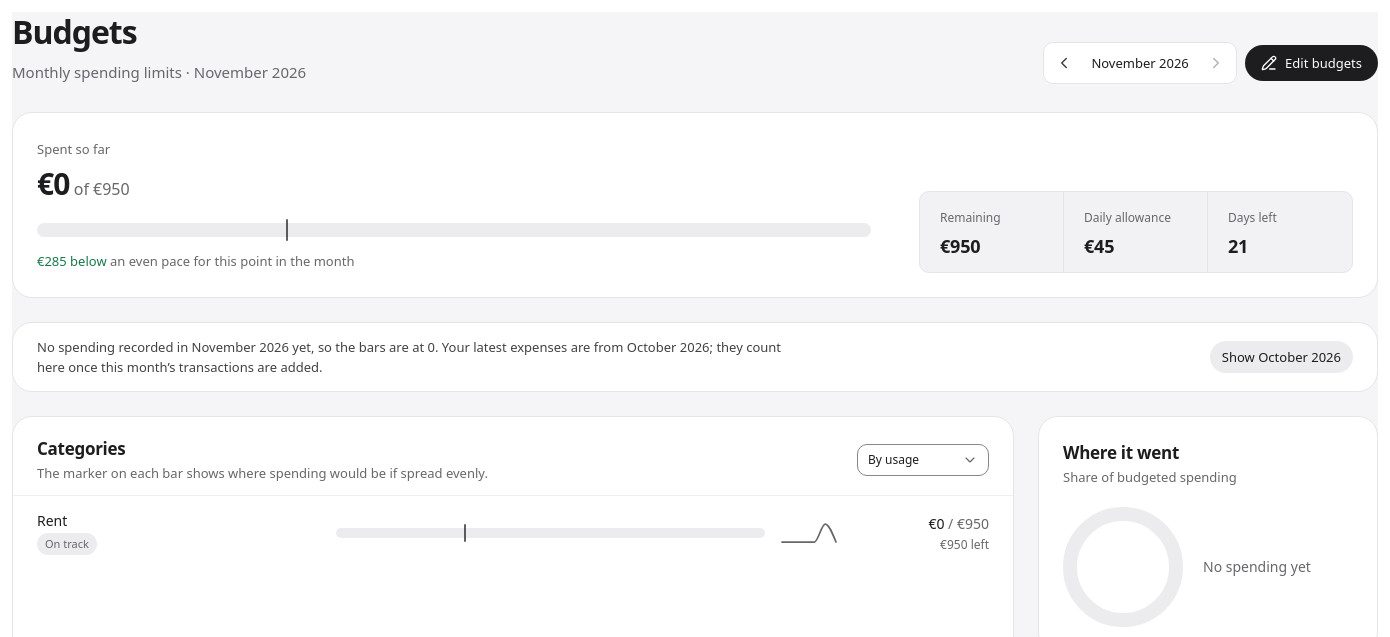
Test: budgets › explains empty bars when this month has no spending yet, and jumps to the latest
This screenshot has width=1390, height=637.
Expected: the text "No spending recorded in November 2026 yet, so the bars are at 0. Your latest expenses are from October 2026" is shown, left=37, top=338, right=781, bottom=376
Click the button "Show October 2026" at (1281, 356), box left=1210, top=340, right=1353, bottom=372
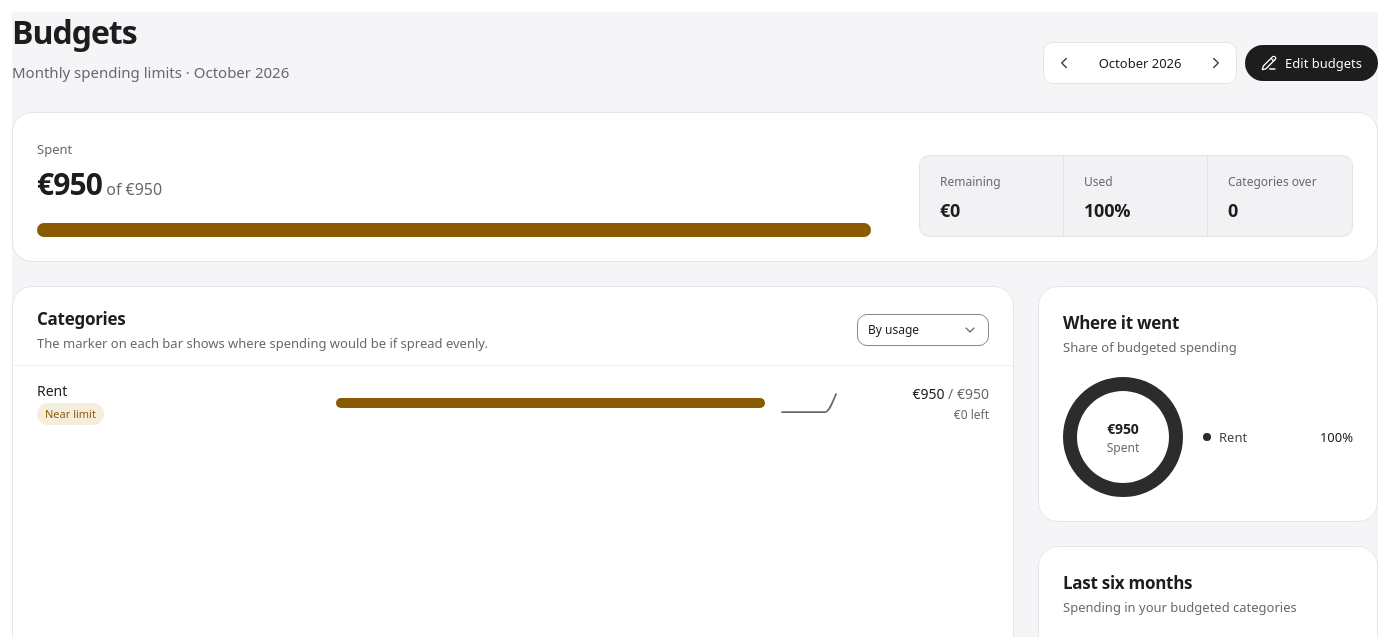
Result: the list item "Rent" shows "€950 / €950" at left=13, top=364, right=1013, bottom=441
Result: the text "No spending recorded" is gone
